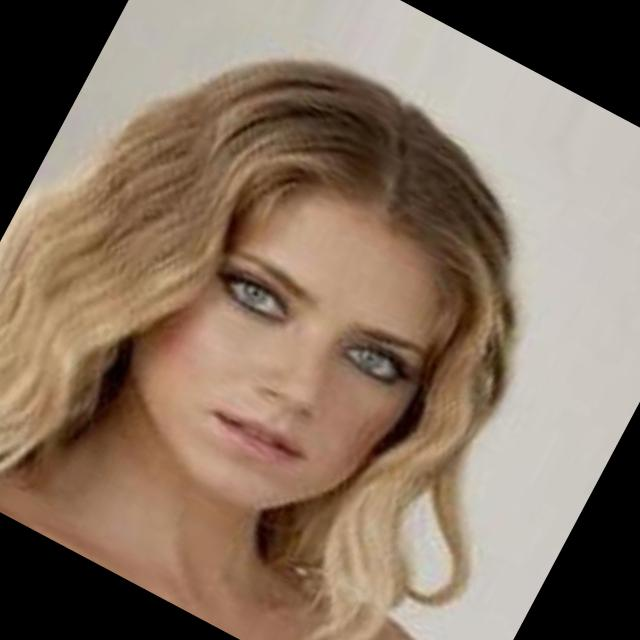bareface: (44, 36, 524, 555)
